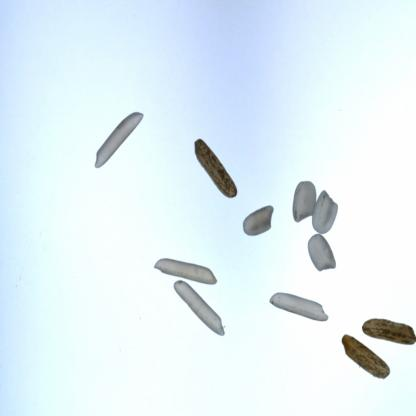Full: (80, 100, 147, 184), (178, 135, 241, 212), (166, 282, 222, 360), (336, 330, 396, 381), (263, 287, 327, 329), (143, 258, 217, 292), (353, 303, 416, 341), (229, 204, 275, 247), (294, 231, 334, 275), (306, 186, 338, 235), (287, 178, 316, 226)
